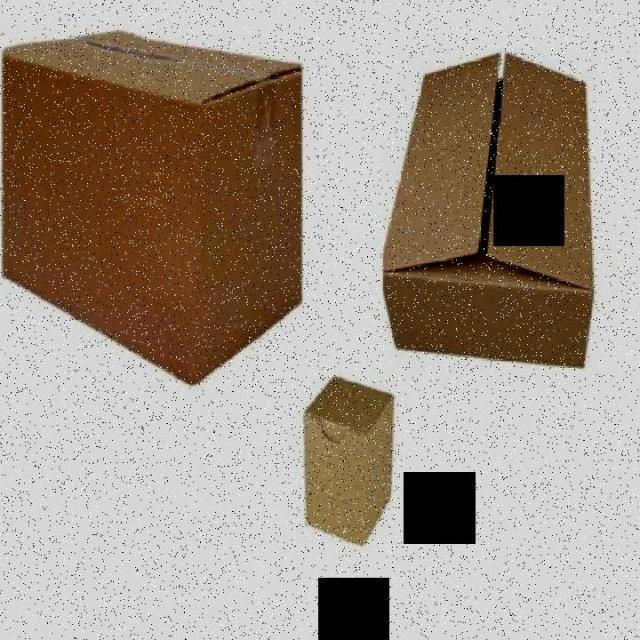box: (4, 28, 305, 394), (378, 42, 598, 370)
